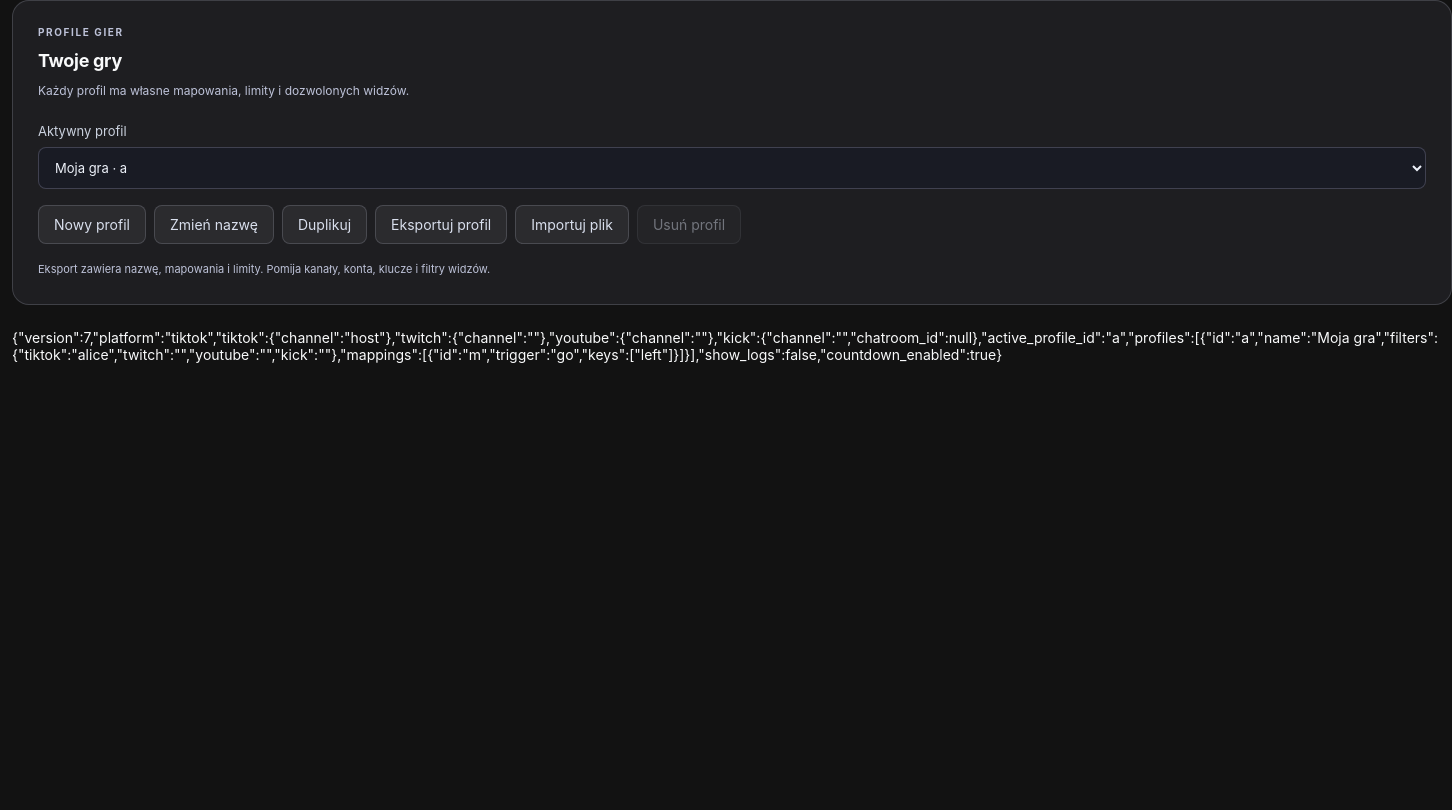
it: retains the creation form after a save error
Click the button "Nowy profil" at (92, 225), box [38,205,146,244]
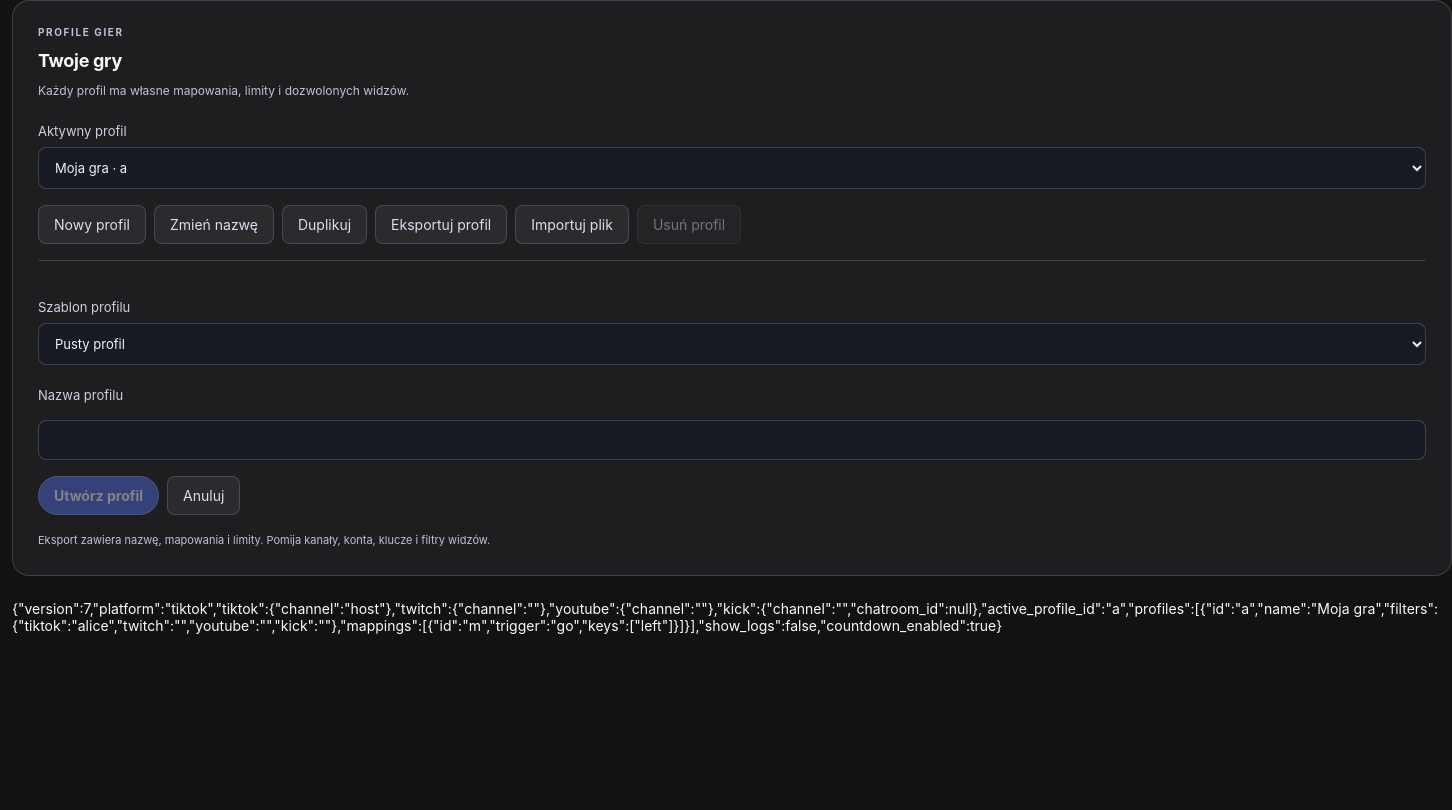
Type "Draft" into the field labelled "Nazwa profilu" at (732, 440), box [38,420,1426,460]
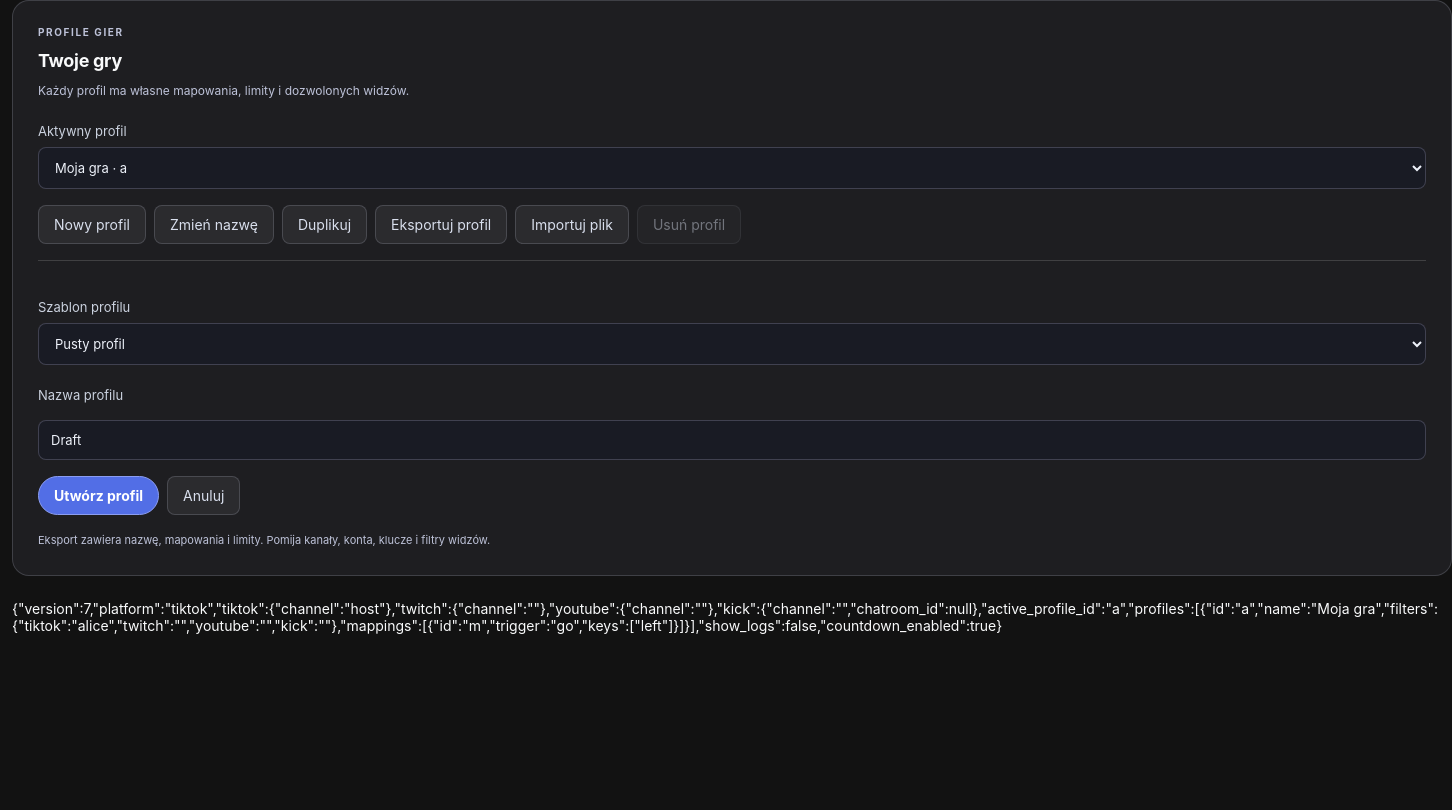
Click the button "Utwórz profil" at (98, 496), box [38,476,159,515]
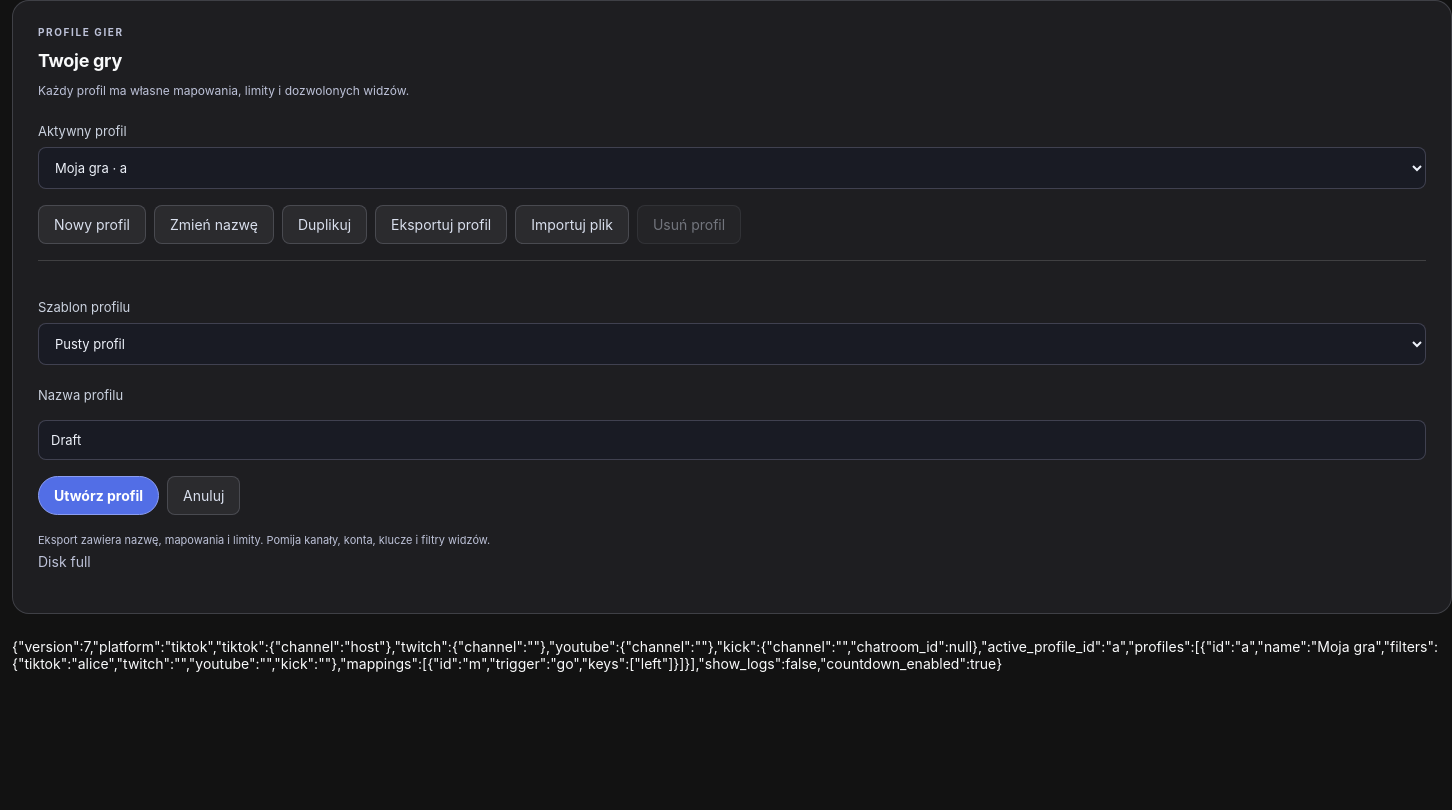
expect the message reads "Disk full": met, box [38,553,91,570]
